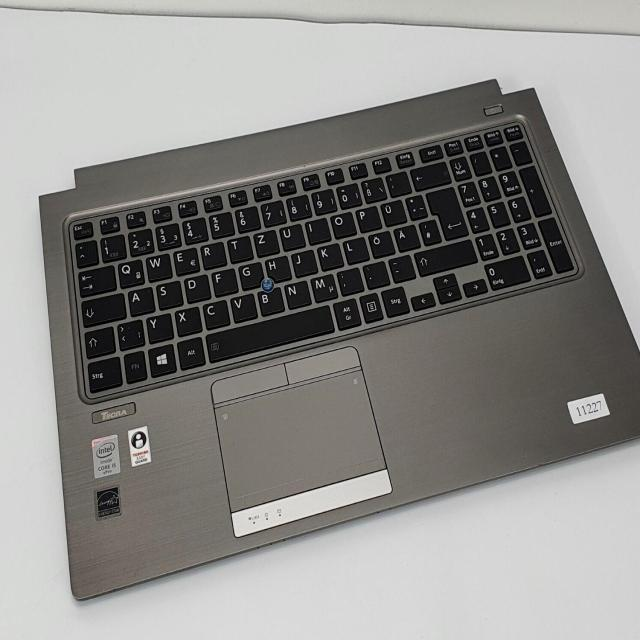0: (335, 180, 360, 206)
1: (99, 232, 125, 260)
2: (127, 226, 153, 252)
3: (154, 221, 179, 246)
4: (181, 215, 206, 240)
5: (208, 210, 233, 235)
6: (234, 204, 258, 229)
7: (260, 198, 285, 223)
8: (284, 192, 310, 217)
9: (309, 186, 335, 211)
a: (126, 285, 154, 313)
accent: (384, 169, 410, 194)
ae: (392, 221, 419, 249)
alt-left: (176, 334, 203, 367)
altgr-right: (331, 295, 360, 326)
b: (256, 284, 283, 313)
c: (200, 297, 228, 327)
caret: (73, 238, 96, 265)
comma: (335, 264, 362, 293)
d: (182, 272, 209, 300)
del: (408, 159, 449, 188)
e: (171, 245, 198, 273)
enter: (425, 183, 466, 236)
f: (210, 265, 236, 294)
g: (237, 259, 260, 288)
h: (263, 253, 290, 279)
hash: (417, 215, 440, 242)
i: (303, 215, 329, 242)
j: (290, 247, 316, 275)
k: (315, 240, 342, 268)
keyboard: (61, 112, 586, 408)
l: (342, 234, 368, 261)
less: (115, 317, 143, 347)
m: (308, 271, 336, 300)
minus: (387, 252, 414, 280)
n: (282, 278, 309, 306)
o: (329, 209, 355, 237)
oe: (367, 228, 393, 256)
p: (354, 203, 380, 230)
plus: (404, 192, 426, 218)
point: (361, 258, 388, 286)
q: (115, 256, 143, 285)
r: (198, 239, 225, 267)
s: (155, 278, 182, 307)
shift-left: (83, 324, 114, 355)
shift-lock: (79, 290, 124, 323)
shift-right: (412, 236, 476, 273)
space: (203, 302, 333, 359)
ss: (359, 175, 385, 200)
strg-left: (84, 354, 120, 391)
strg-right: (379, 283, 408, 314)
t: (226, 233, 252, 260)
tab: (76, 263, 114, 293)
u: (277, 221, 303, 249)
ue: (378, 196, 405, 224)
v: (229, 290, 256, 320)
w: (143, 251, 170, 279)
x: (173, 304, 200, 334)
y: (145, 311, 172, 340)
z: (252, 227, 277, 255)
